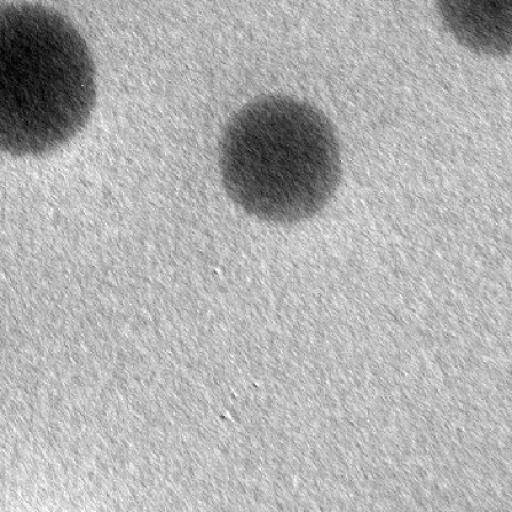Nanoparticles: (217, 93, 343, 221), (1, 5, 96, 154), (439, 1, 512, 54)
